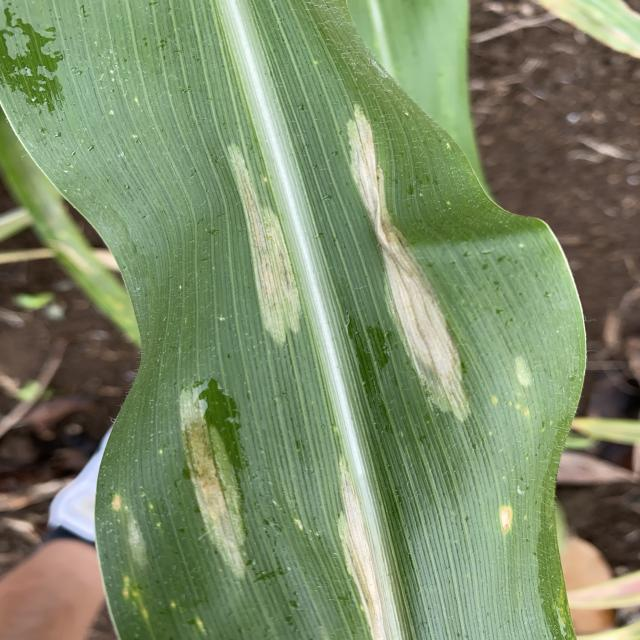Corn_Leaf_Blight: (81, 0, 568, 640)
